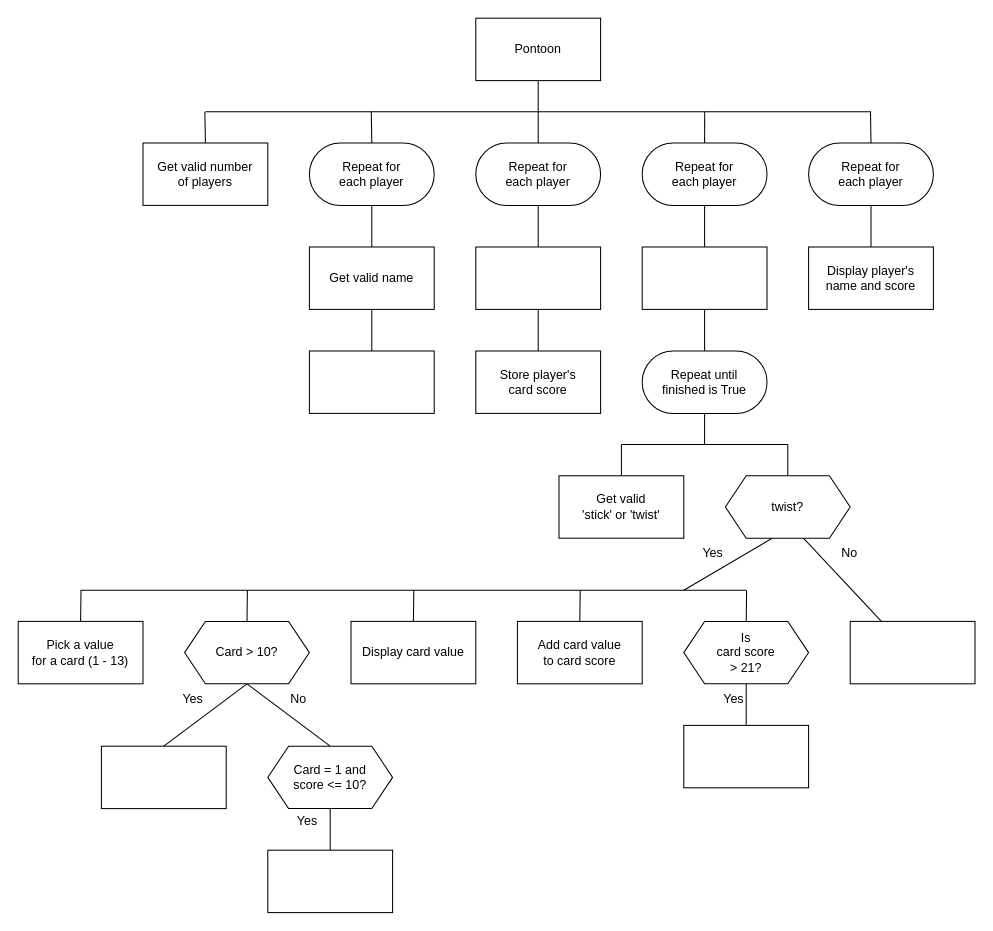
The diagram is 993 pixels wide and 931 high, and some of its shapes have lost their labels. The shapes that lost their labels are listed below. From the top down, each one's centre as x and y in pixels, then its label:
(538,277): Pick a value for two cards (4-21)
(704,277): Display player's name and score Set finished to False
(371,381): Store player's name
(912,652): Set finished to True
(746,756): Set finished to True Display "Bust!"
(163,777): Set card value to 1
(330,881): Set card value to 11
